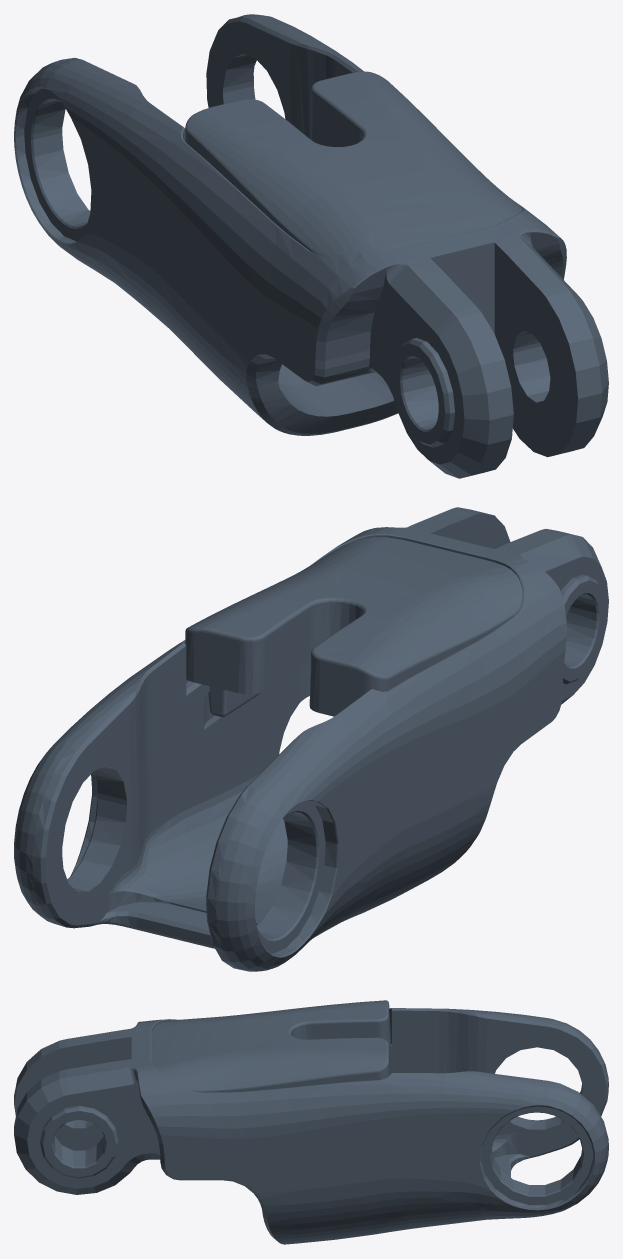
Rendered from R_index_prox.dae.
The picture shows the model from 3 angles, top to bottom: view 1: azimuth 30°, elevation 25°; view 2: azimuth 150°, elevation 25°; view 3: azimuth 270°, elevation 25°; orthographic projection. The views are drawn at different scales.
Visible parts, largest first — view 1: R_index_prox; view 2: R_index_prox; view 3: R_index_prox.
Part boxes in pixels (x1=…): R_index_prox: x1=14, y1=14, x2=608, y2=478; R_index_prox: x1=14, y1=507, x2=608, y2=971; R_index_prox: x1=14, y1=1000, x2=608, y2=1244.
Bounding box in the file's own units: 0.0154 × 0.0455 × 0.0171.
